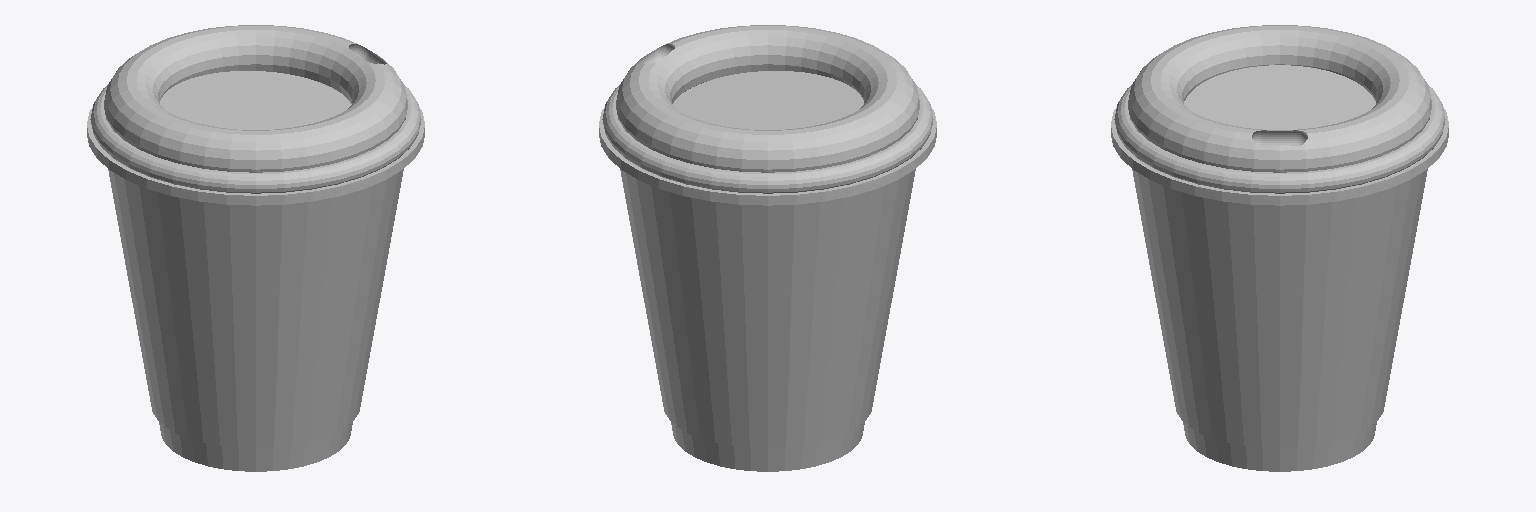
The model's file is cup.obj.
3 views of the same model, side by side, from view 1: azimuth 30°, elevation 25°; view 2: azimuth 150°, elevation 25°; view 3: azimuth 270°, elevation 25° (orthographic).
Visible parts, largest first — view 1: obj Boole_2 Cone-Cube, obj Lid Boole_1 Torus_1, Disc, obj Lid Torus, obj Lid Tube, obj Boole Boole_11 Cone-Cube1; view 2: obj Boole_2 Cone-Cube, obj Lid Boole_1 Torus_1, Disc, obj Lid Torus, obj Lid Tube, obj Boole Boole_11 Cone-Cube1; view 3: obj Boole_2 Cone-Cube, obj Lid Boole_1 Torus_1, Disc, obj Lid Torus, obj Lid Tube, obj Boole Boole_11 Cone-Cube1, obj Lid Boole_1 Capsule.
Boxes of the visible parts, <box> form: obj Boole_2 Cone-Cube: <box>108,91,403,448</box>; obj Lid Boole_1 Torus_1: <box>104,25,407,172</box>; Disc: <box>160,71,351,129</box>; obj Lid Torus: <box>90,85,421,193</box>; obj Lid Tube: <box>87,107,424,205</box>; obj Boole Boole_11 Cone-Cube1: <box>159,87,352,471</box>; obj Boole_2 Cone-Cube: <box>620,92,915,448</box>; obj Lid Boole_1 Torus_1: <box>616,25,919,172</box>; Disc: <box>672,71,863,129</box>; obj Lid Torus: <box>602,85,933,193</box>; obj Lid Tube: <box>599,107,936,205</box>; obj Boole Boole_11 Cone-Cube1: <box>671,87,864,471</box>; obj Boole_2 Cone-Cube: <box>1132,169,1427,448</box>; obj Lid Boole_1 Torus_1: <box>1128,25,1431,172</box>; Disc: <box>1184,65,1375,129</box>; obj Lid Torus: <box>1114,85,1445,193</box>; obj Lid Tube: <box>1111,107,1448,205</box>; obj Boole Boole_11 Cone-Cube1: <box>1183,422,1376,471</box>; obj Lid Boole_1 Capsule: <box>1252,130,1307,145</box>.
Bounding box in the file's own units: 217 × 249 × 217.